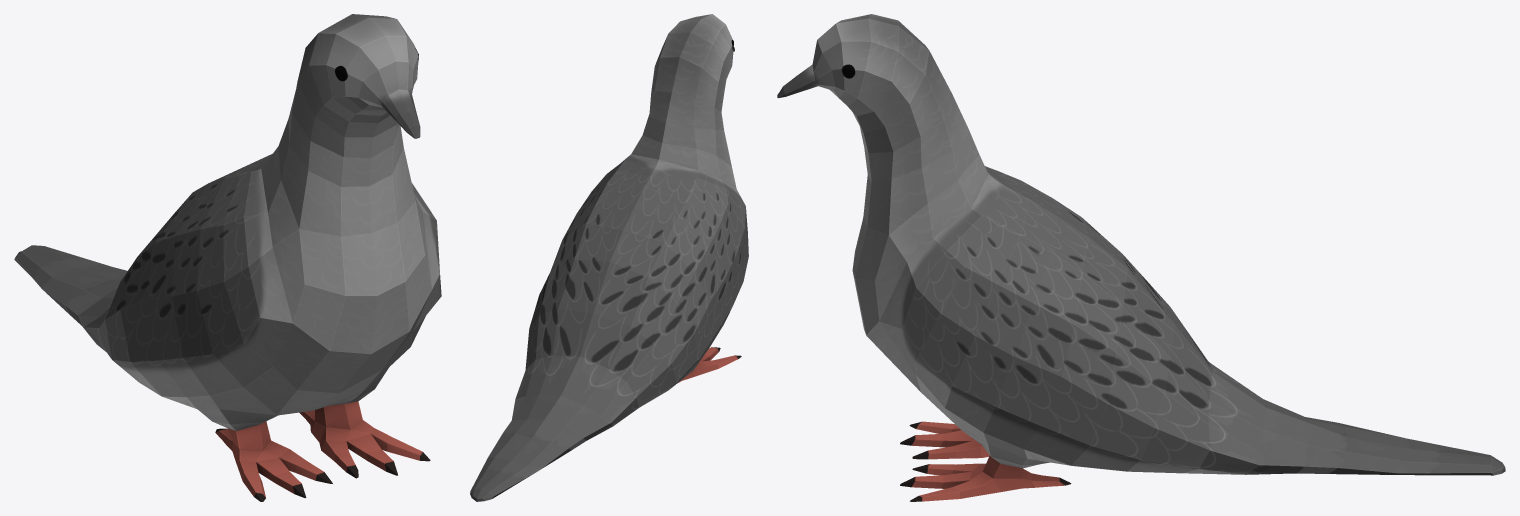
File: pigeon_test.obj
3 views of the same model, side by side, from view 1: azimuth 30°, elevation 25°; view 2: azimuth 150°, elevation 25°; view 3: azimuth 270°, elevation 25° (orthographic). The views are drawn at different scales.
Visible parts, largest first — view 1: MourningDoves:MourningDoves_Mesh; view 2: MourningDoves:MourningDoves_Mesh; view 3: MourningDoves:MourningDoves_Mesh.
Boxes of the visible parts, <box> form: MourningDoves:MourningDoves_Mesh: <box>14,14,441,501</box>; MourningDoves:MourningDoves_Mesh: <box>470,14,748,501</box>; MourningDoves:MourningDoves_Mesh: <box>777,14,1505,501</box>.
Size of the model in its own units: 0.783 by 1.53 by 2.24.
Materials: 1 (1 with a texture image).
